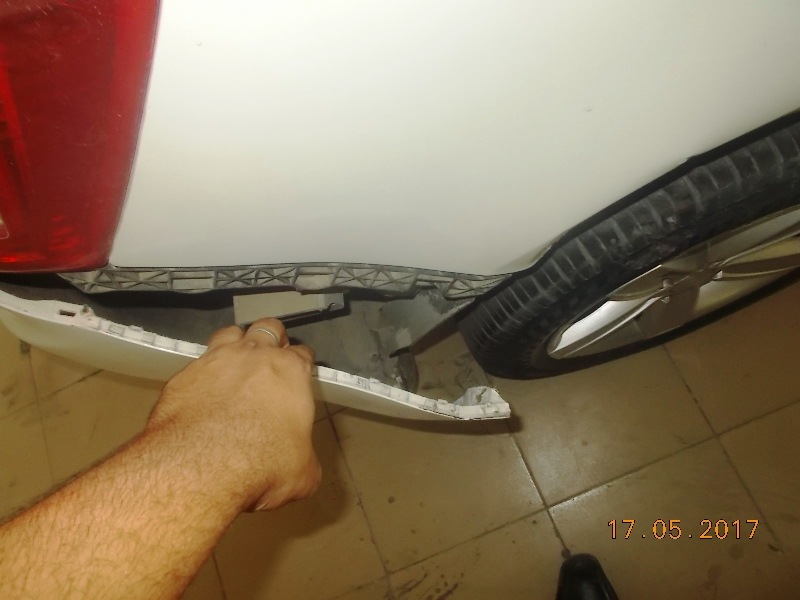Dislocation: (65, 197, 527, 421)
